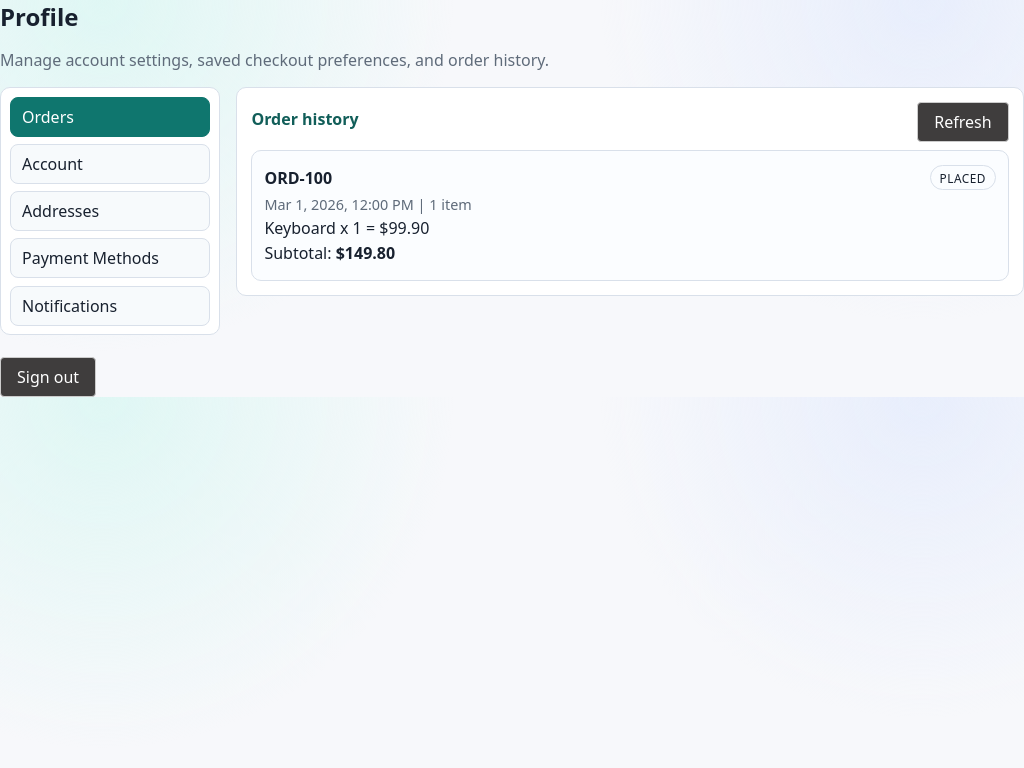
Test: Profile section switching › switches between profile subsections and loads section data when needed
Expected: the heading "Order history" is shown, [251,108,359,130]
Expected: the text "ORD-100" is shown, [264,167,332,189]
Click the button "Addresses" at (110, 211), box [10,191,210,231]
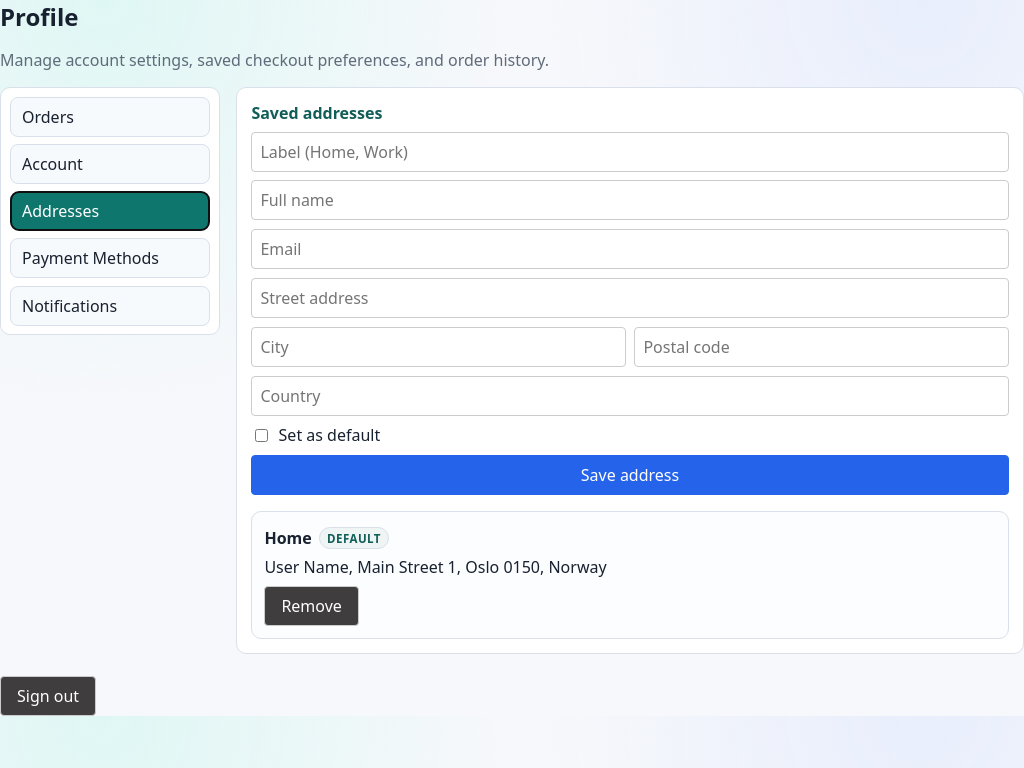
Expected: the heading "Saved addresses" is shown, [251,102,382,124]
Expected: the text "Home" is shown, [264,527,312,549]
Click the button "Payment Methods" at (110, 258), box [10,238,210,278]
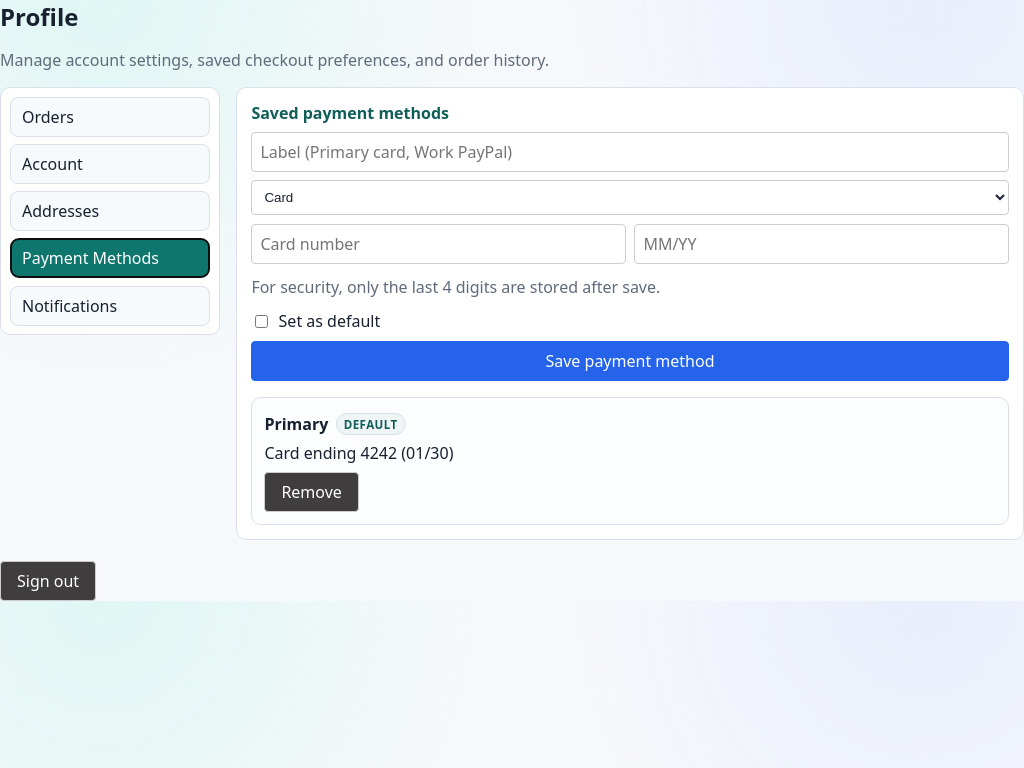
Expected: the heading "Saved payment methods" is shown, [251,102,449,124]
Expected: the text "Primary" is shown, [264,413,328,435]
Click the button "Notifications" at (110, 306), box [10,286,210,326]
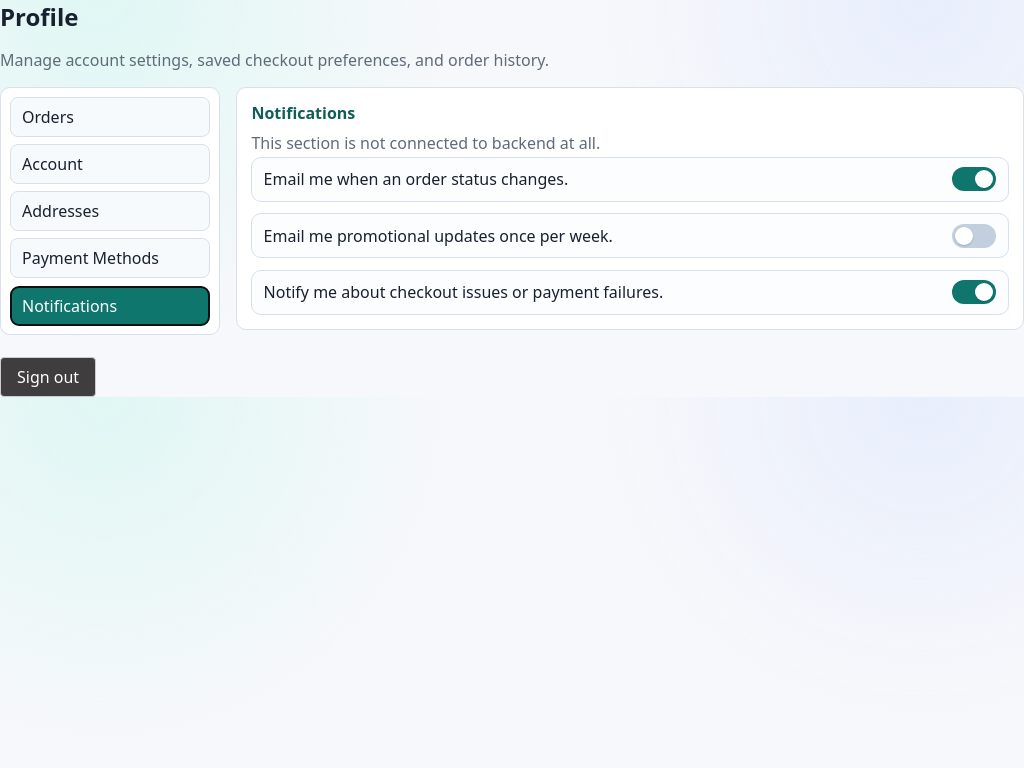
Expected: the heading "Notifications" is shown, [251,102,355,124]
Expected: the text "This section is not connected to backend at all." is shown, [251,132,600,154]
Click the button "Account" at (110, 164), box [10,144,210,184]
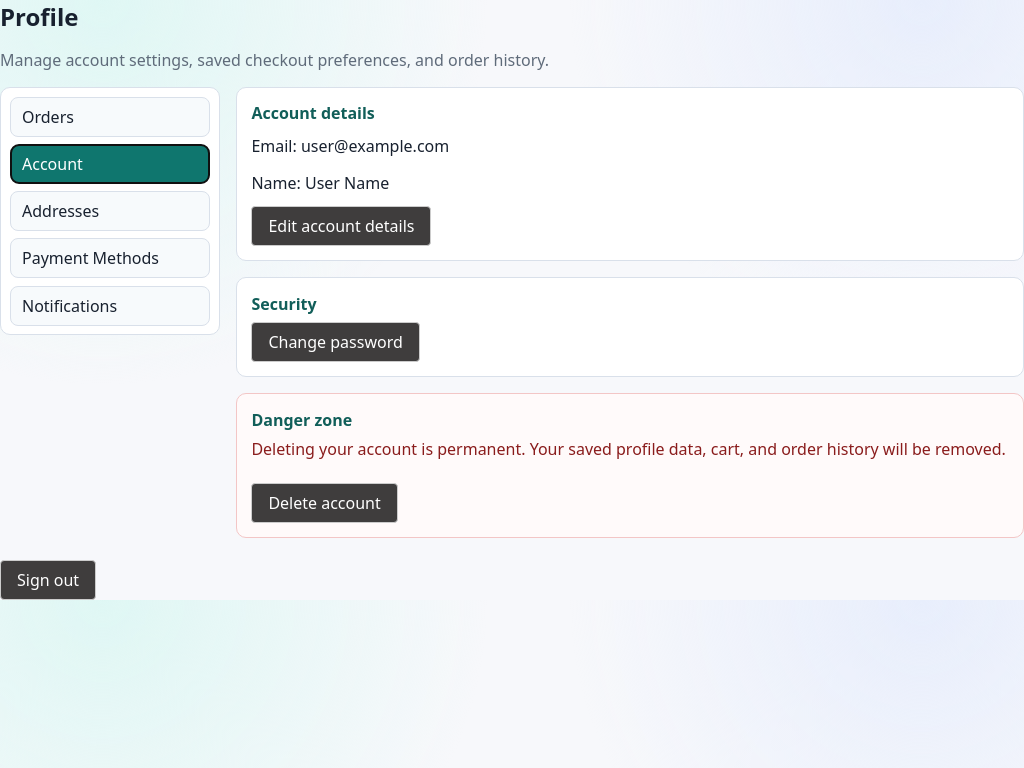
Expected: the heading "Account details" is shown, [251,102,375,124]
Expected: the text "Email: user@example.com" is shown, [251,135,449,157]
